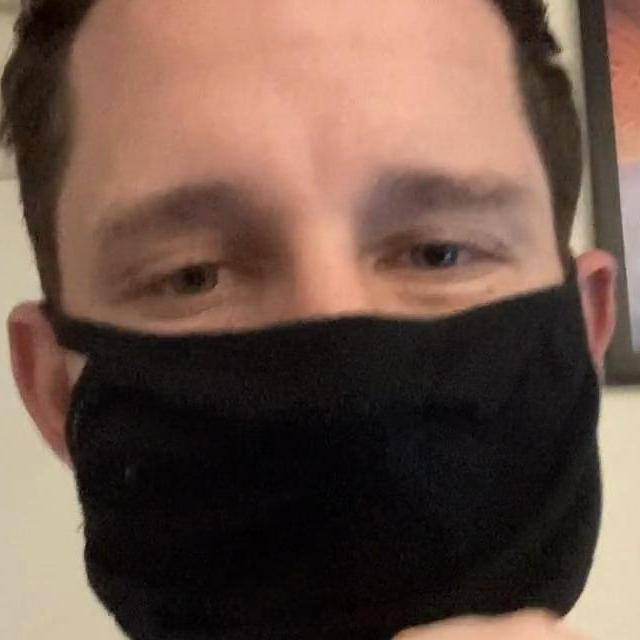Mask: (47, 289, 616, 640)
NO-Hardhat: (21, 0, 550, 119)
Person: (0, 0, 640, 640)
